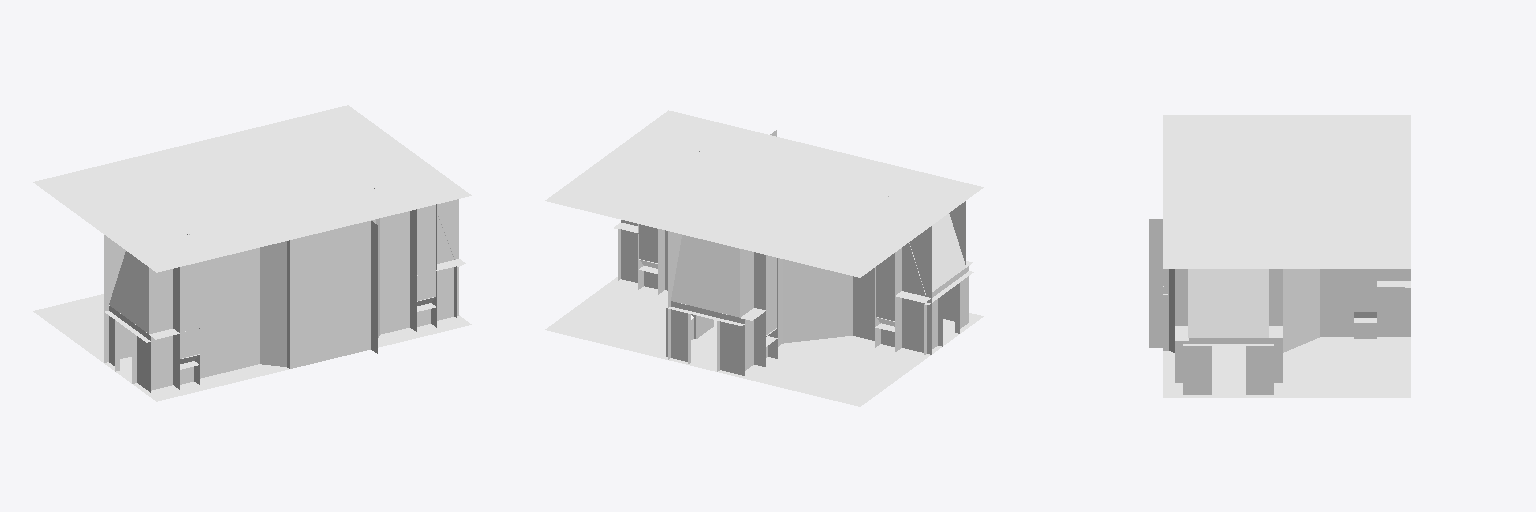
Rendered from LC_room3_2.obj.
3 renders of one model, left to right at view 1: azimuth 30°, elevation 25°; view 2: azimuth 150°, elevation 25°; view 3: azimuth 270°, elevation 25°, orthographic.
Visible parts, largest first — view 1: LC_room3_2; view 2: LC_room3_2; view 3: LC_room3_2.
Boxes of the visible parts, <box> form: LC_room3_2: <box>33,105,471,401</box>; LC_room3_2: <box>545,110,983,406</box>; LC_room3_2: <box>1149,115,1410,397</box>.
Size of the model in its own units: 20.48 by 8.01 by 14.72.